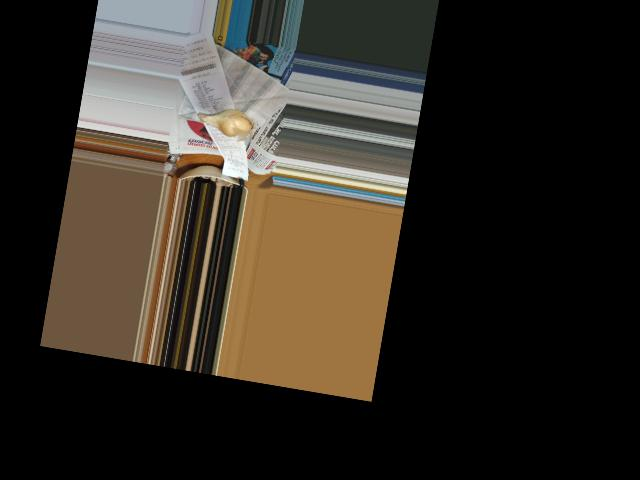onion: (202, 106, 253, 139)
